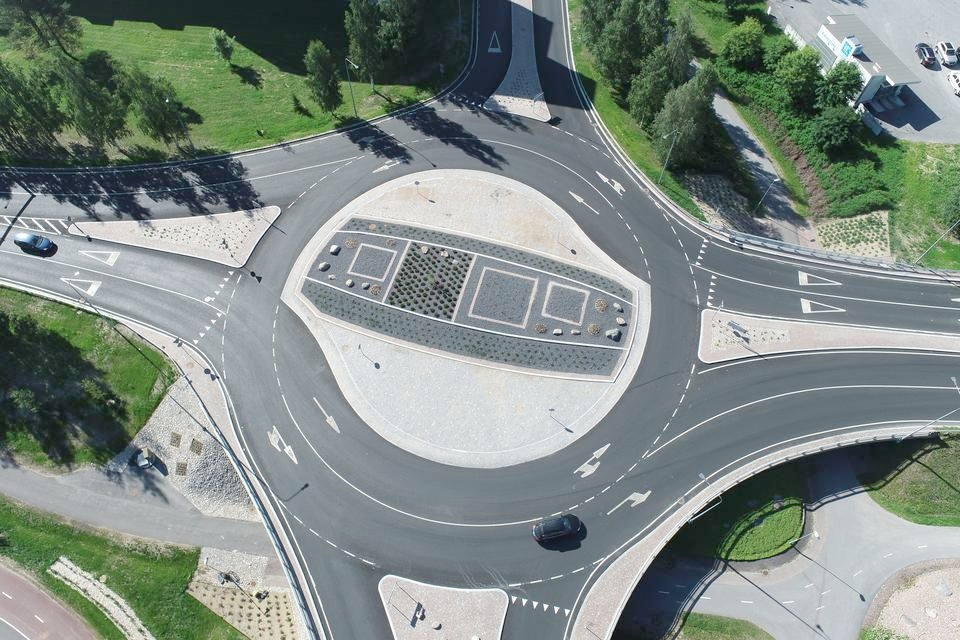roundabout: (172, 46, 746, 640)
